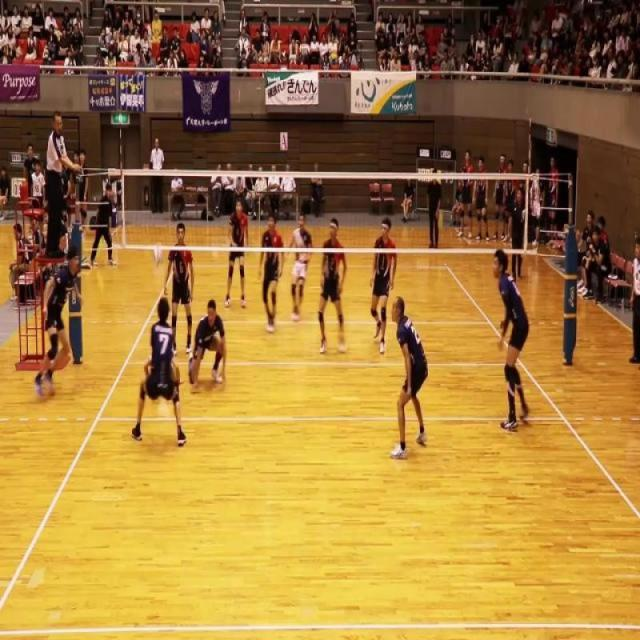volleyball: (152, 244, 162, 268)
